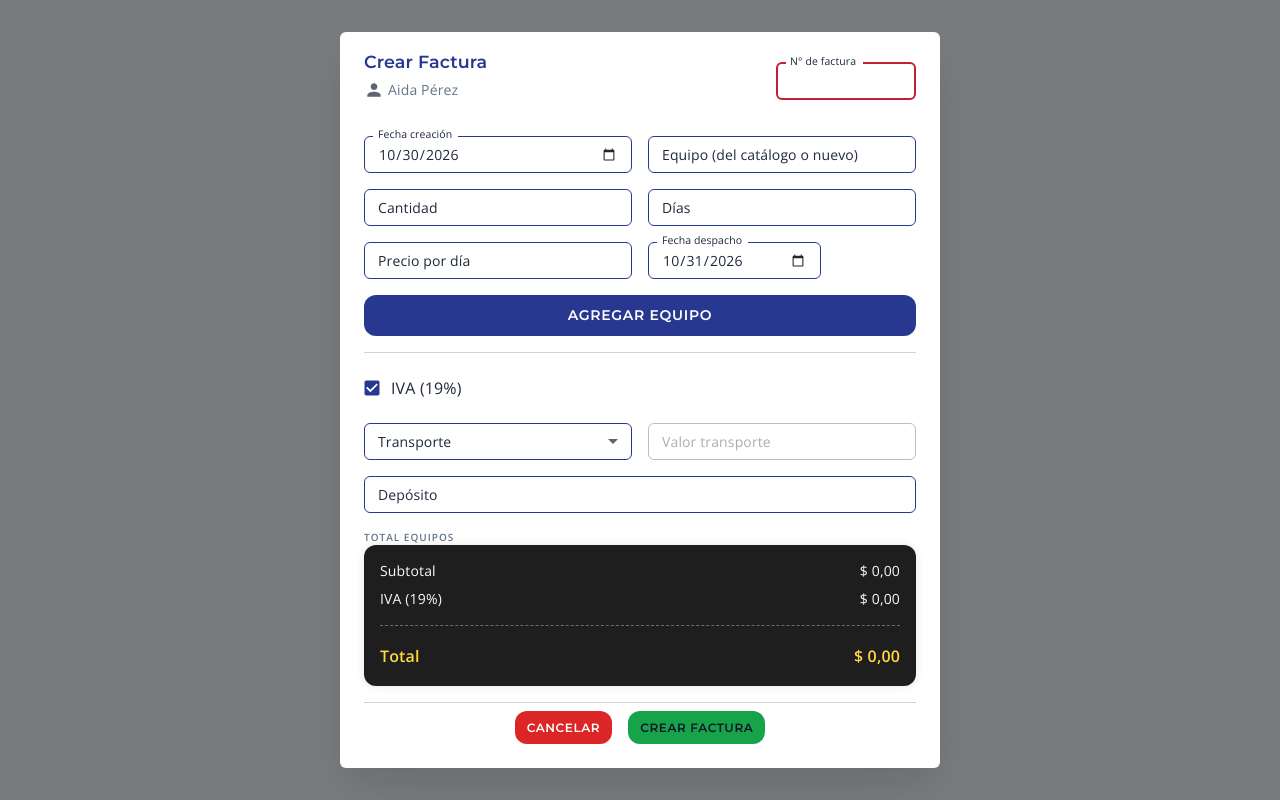
Test case: FacturaFormDialog — lo que no deja guardar › pide número de factura y al menos un equipo
This screenshot has width=1280, height=800.
Click the button "Crear Factura": (697, 728) [628,711,765,744]
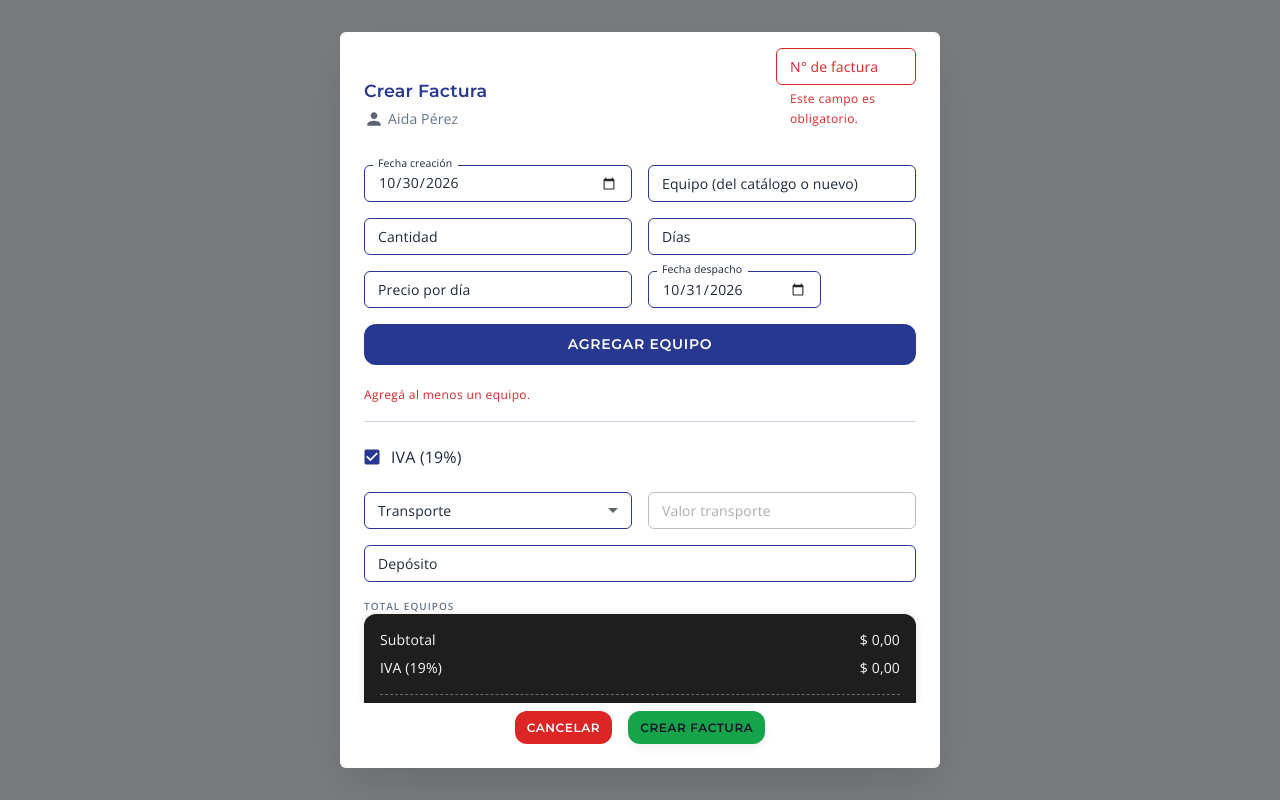
Now the text "Este campo es obligatorio." is shown, box [790,90,875,127]
Now the text "Agregá al menos un equipo." is shown, box [364,386,530,403]
